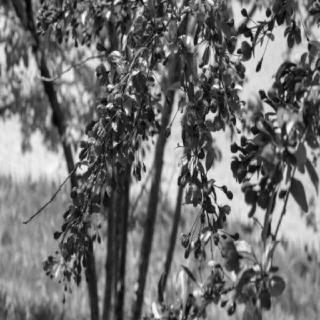other: (70, 95, 139, 259)
